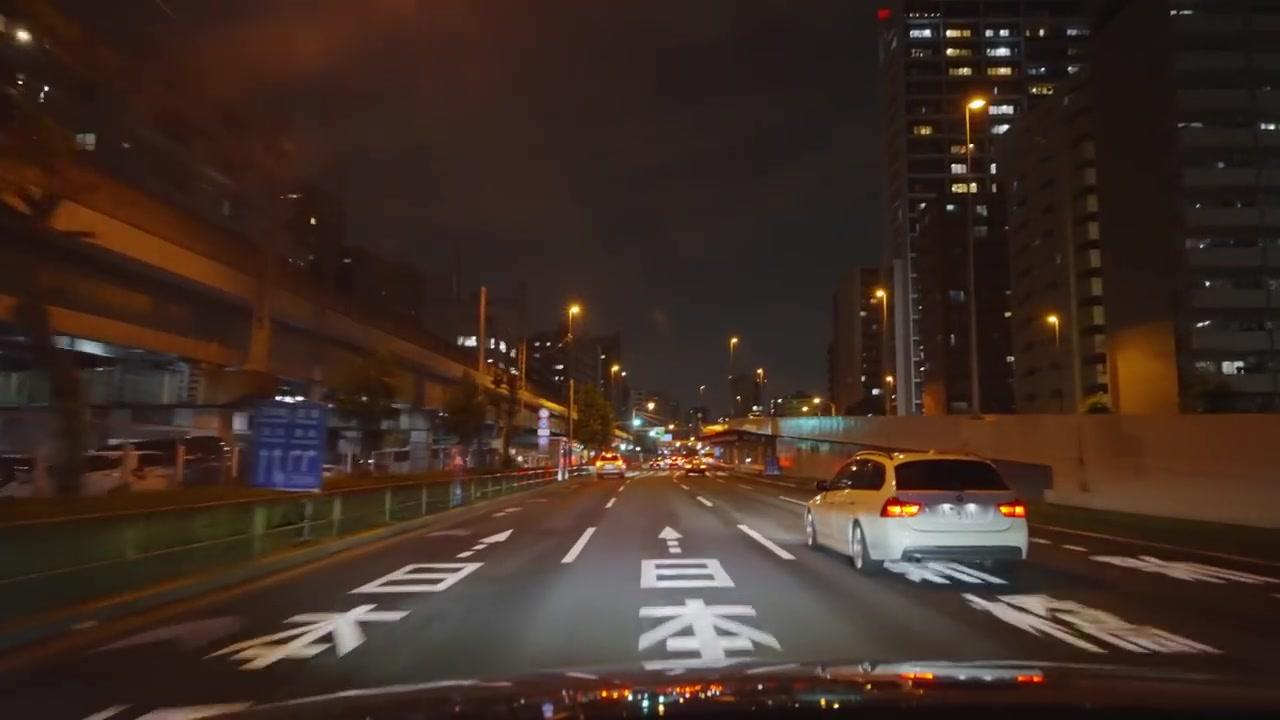car: (804, 449, 1030, 575), (596, 458, 626, 479), (570, 465, 596, 479)
